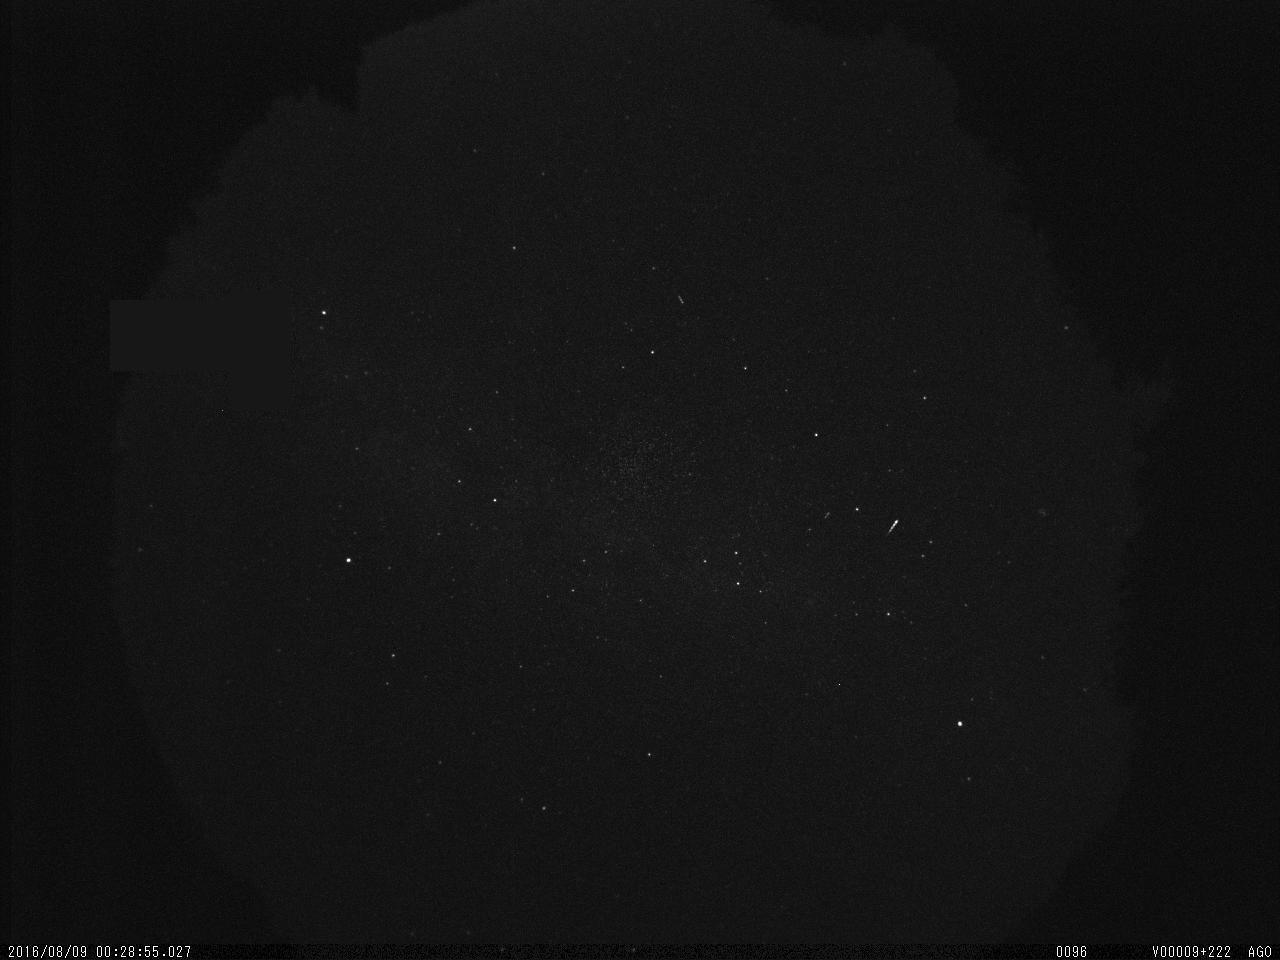Meteor: (884, 510, 904, 541)
